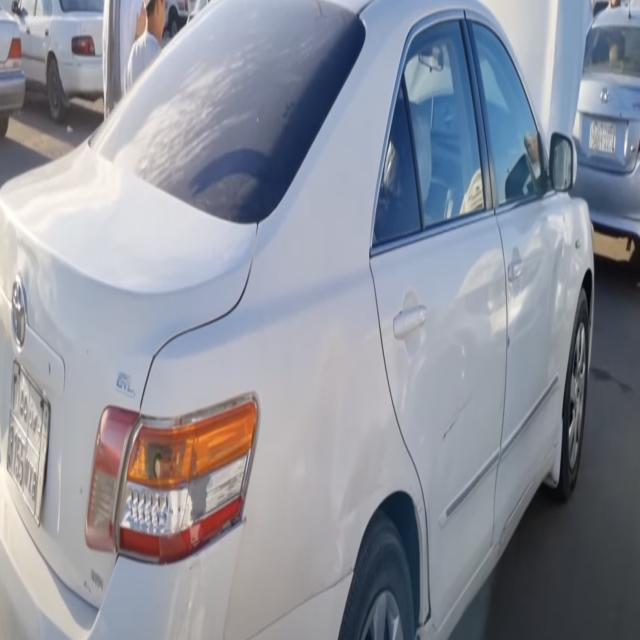license_plate: (3, 357, 54, 542), (586, 116, 618, 160)
